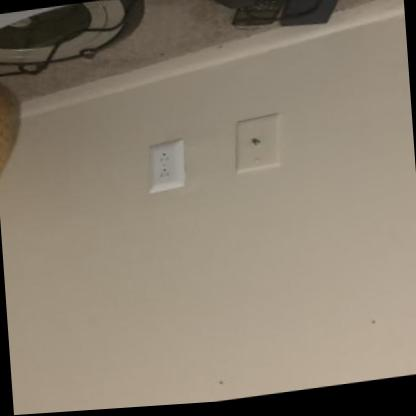OUTLET: (146, 139, 186, 194)
